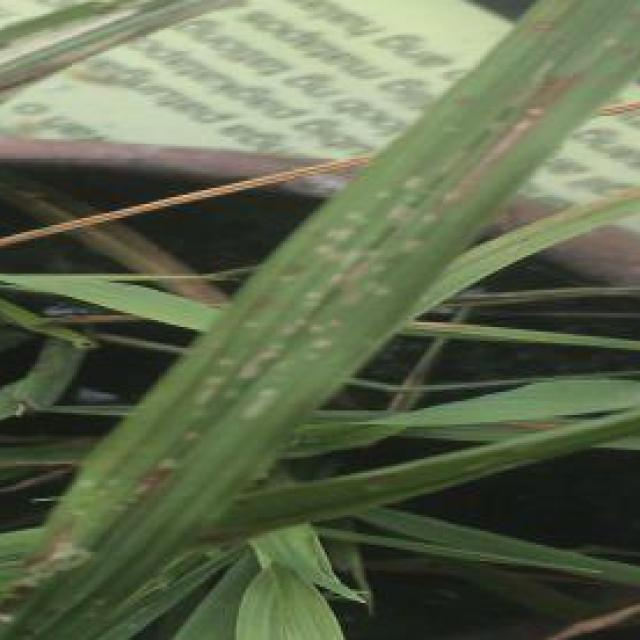Leaf_Blast: (438, 62, 612, 236)
